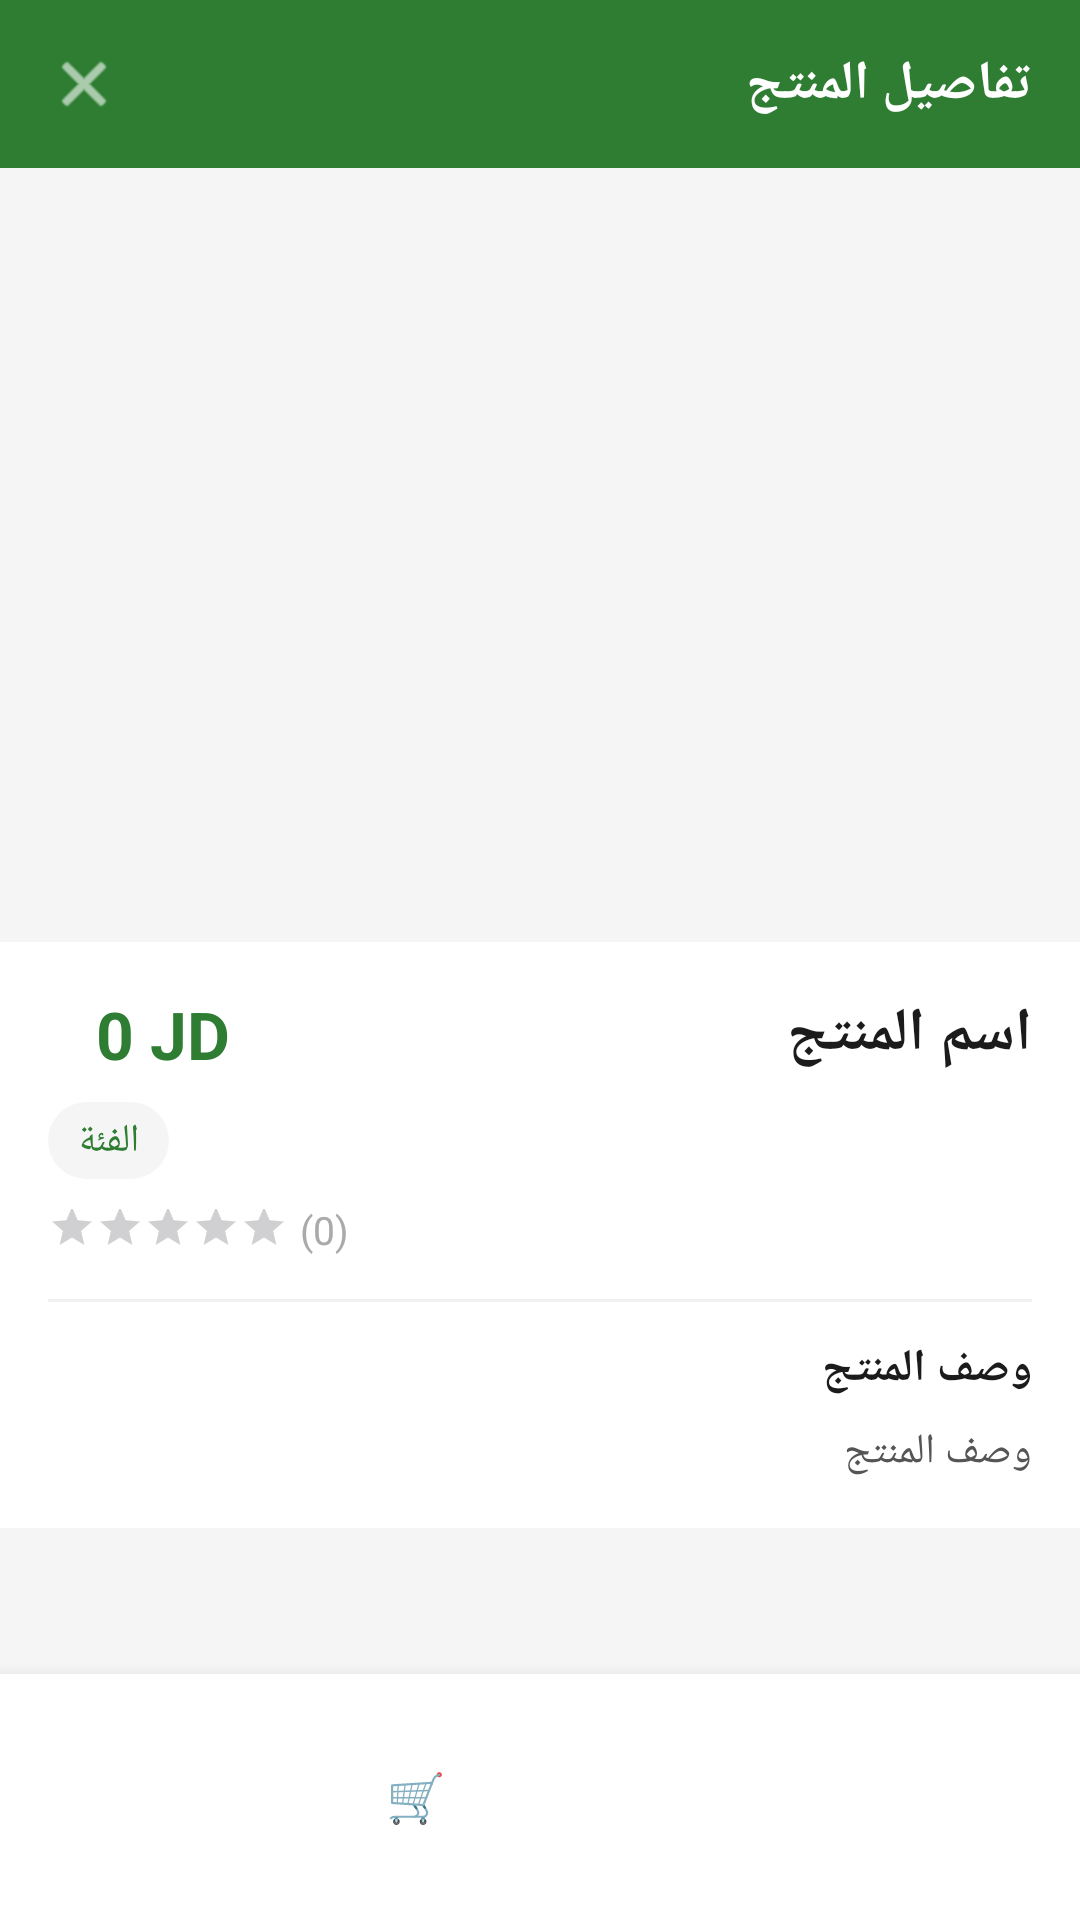

Icons on this 1080px x 1920px Android screen, each with its box as box=[x1, y1, x2, y2]:
close clear cancel: box=[61, 61, 107, 107]
